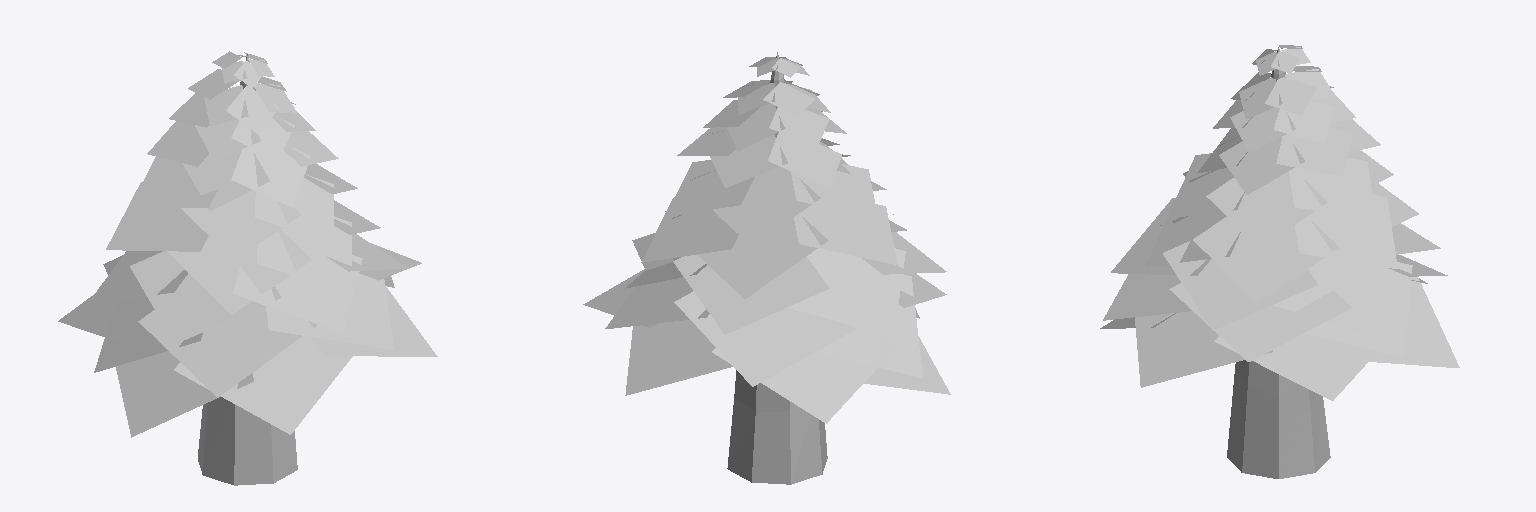
Rendered from Pine_1.obj.
The picture shows the model from 3 angles: view 1: azimuth 30°, elevation 25°; view 2: azimuth 150°, elevation 25°; view 3: azimuth 270°, elevation 25°; orthographic projection.
Size of the model in its own units: 13.95 by 17.3 by 13.73.